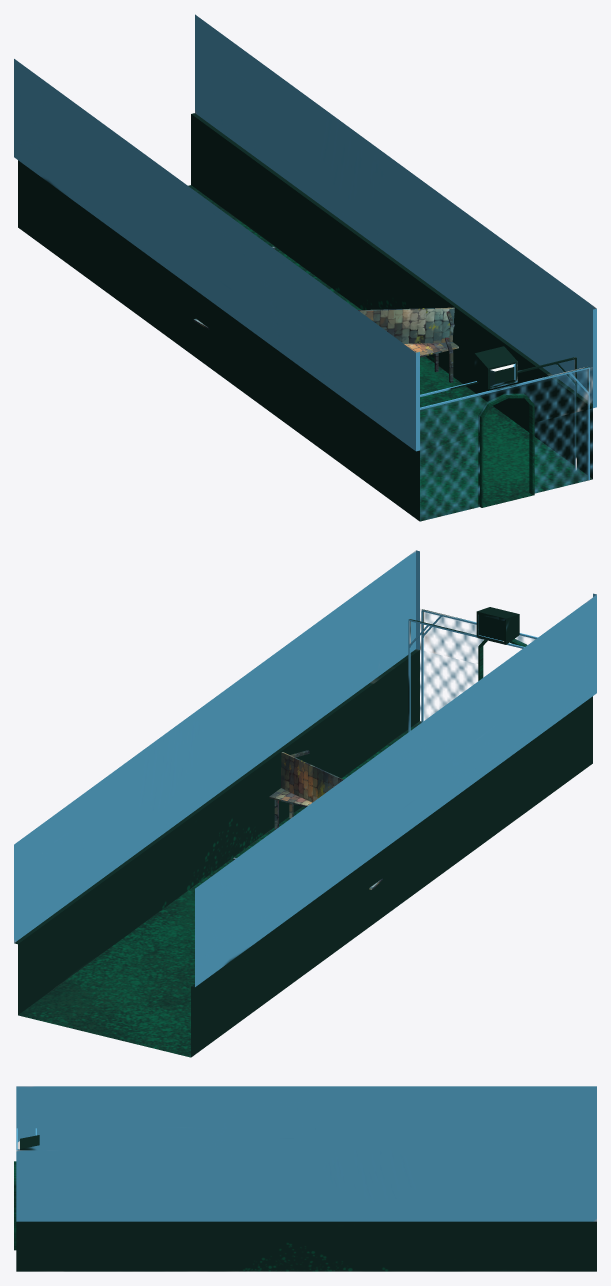
File: corridor1_2.glb
The picture shows the model from 3 angles, top to bottom: view 1: azimuth 30°, elevation 25°; view 2: azimuth 150°, elevation 25°; view 3: azimuth 270°, elevation 25°; orthographic projection. The views are drawn at different scales.
Visible parts, largest first — view 1: corridor_base.002, table_mesh.007, table_mesh.006; view 2: corridor_base.002, table_mesh.007; view 3: corridor_base.002.
Part boxes in pixels (x1,y1,x2,y2): corridor_base.002: (14, 14, 596, 521); table_mesh.007: (358, 307, 454, 353); table_mesh.006: (404, 342, 458, 382); corridor_base.002: (14, 550, 596, 1057); table_mesh.007: (281, 750, 343, 802); corridor_base.002: (14, 1086, 596, 1271).
Bounding box in the file's own units: 5.18 × 4.65 × 20.
2 materials, 2 textured.
